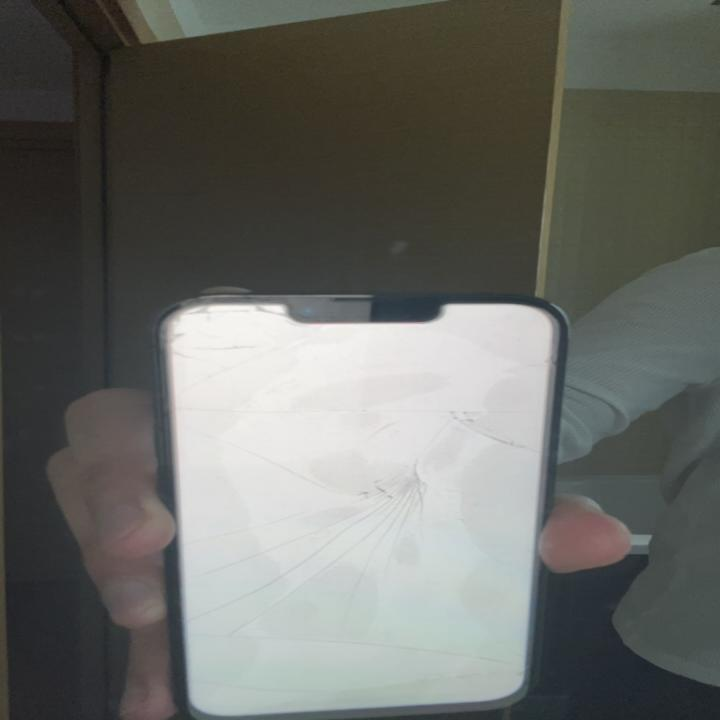Crack: (160, 307, 552, 463), (166, 467, 494, 643)
